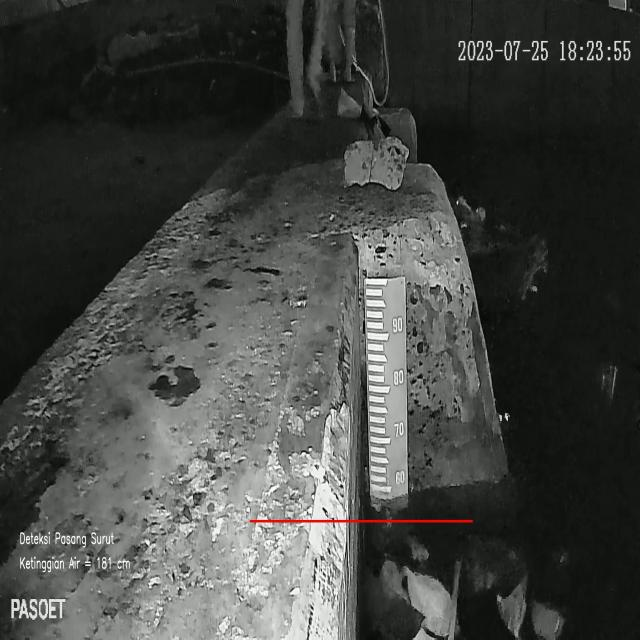water-meter: (362, 267, 416, 520)
